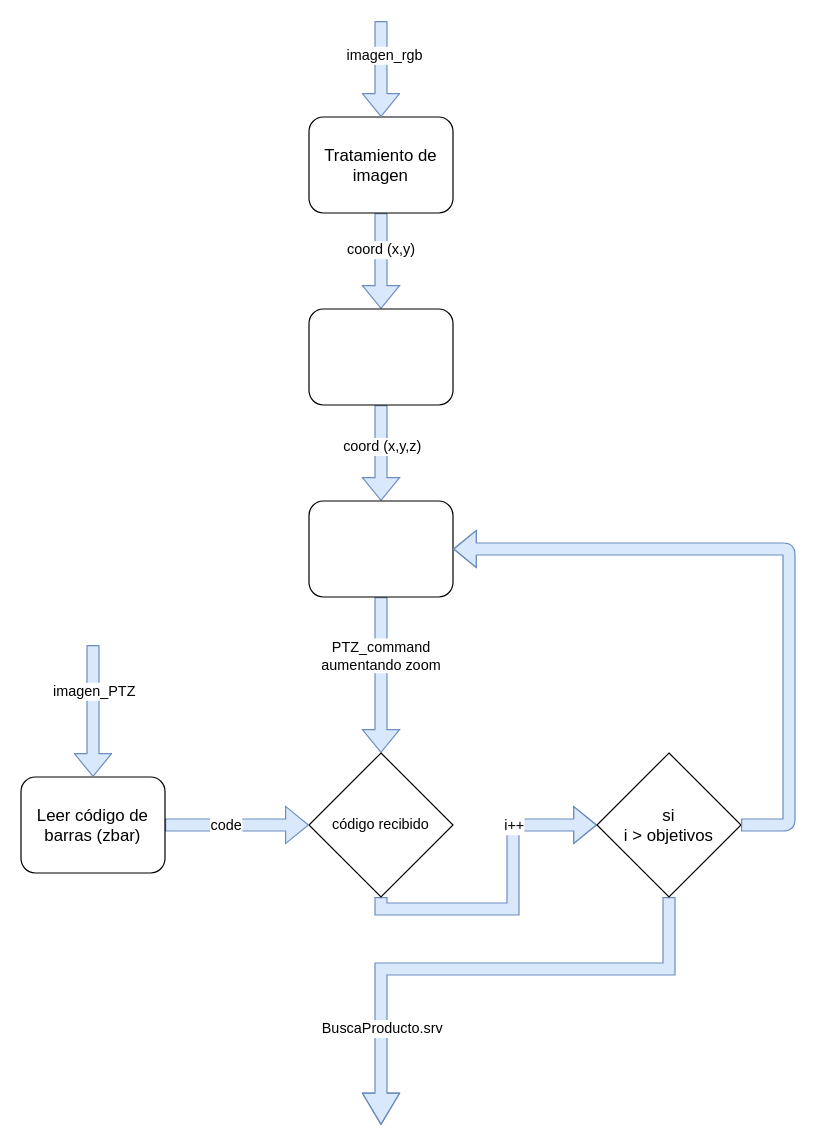
The diagram is 816 pixels wide and 1145 high, and some of its shapes have lost their labels. Here are the shapes that lost their labels. From the top down, the centre of each, then its label:
At pixel 380 356: "Cálculo de posición".
At pixel 380 548: "Orienta cámara PTZ".
